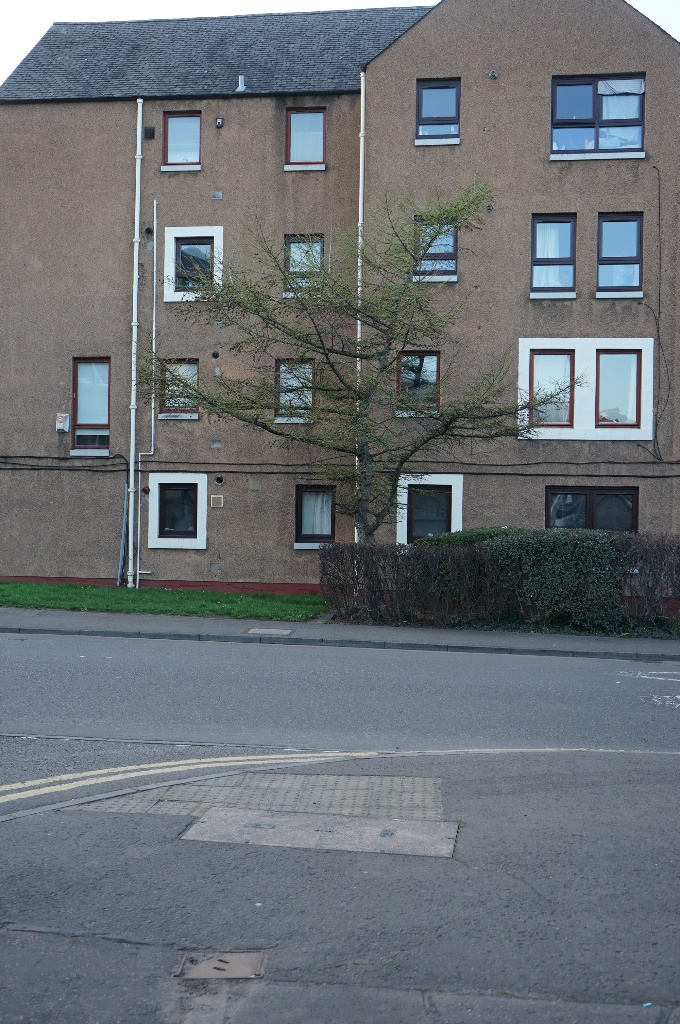Tree: (110, 161, 603, 617)
